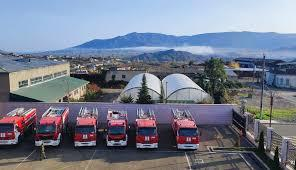Fire-engine: (0, 108, 38, 152), (35, 110, 72, 144), (126, 112, 158, 151), (98, 112, 128, 152), (73, 110, 100, 151), (170, 106, 195, 150)
